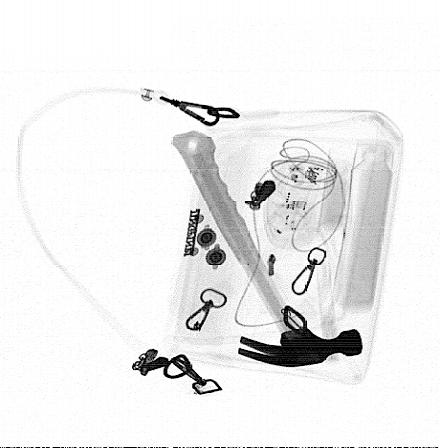Hammer: (171, 130, 363, 368)
